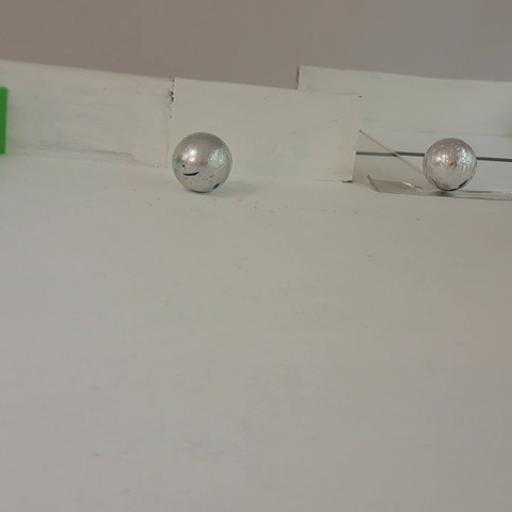alive: (169, 130, 234, 195), (421, 137, 478, 192)
